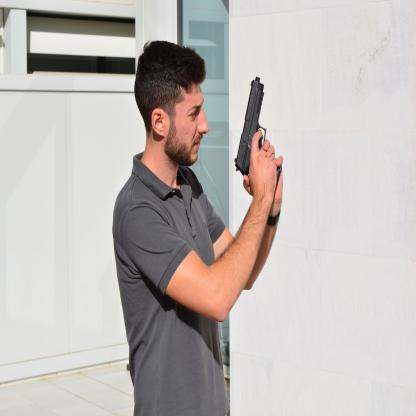pistol: (234, 76, 281, 188)
